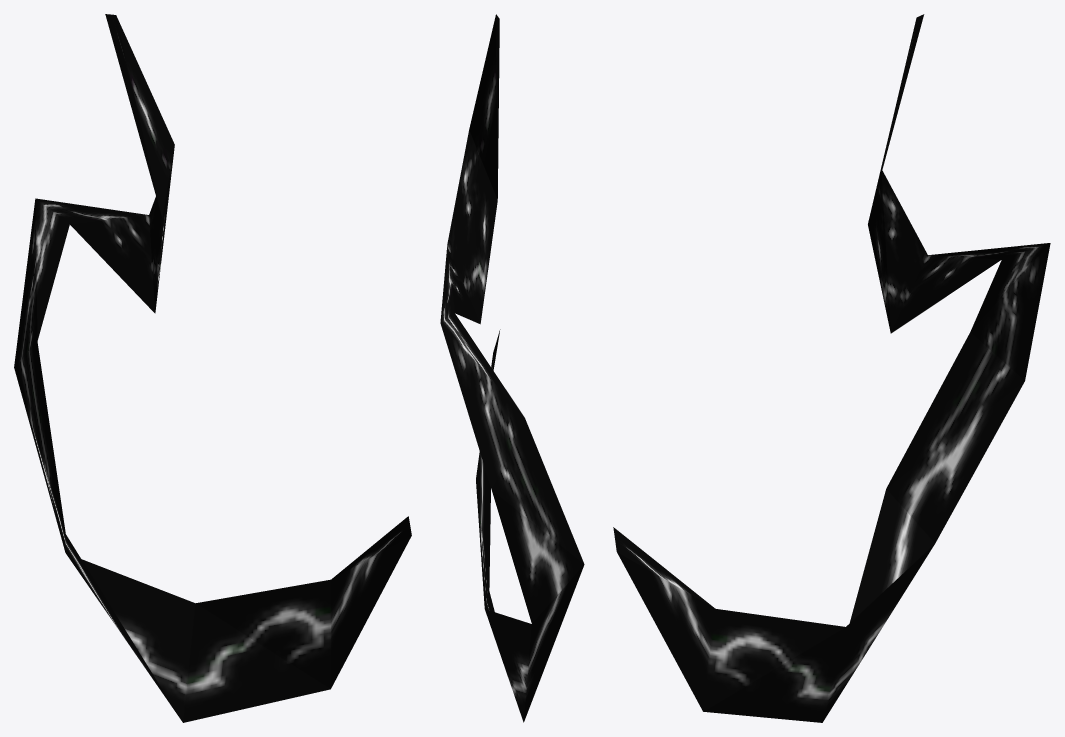
File: sfyyy_sdmx_001.fbx
The picture shows the model from 3 angles, left to right: view 1: azimuth 30°, elevation 25°; view 2: azimuth 150°, elevation 25°; view 3: azimuth 270°, elevation 25°; orthographic projection. The views are drawn at different scales.
Visible parts, largest first — view 1: sfyyy_sdmx_001; view 2: sfyyy_sdmx_001; view 3: sfyyy_sdmx_001.
Part boxes in pixels (x1,y1,x2,y2): sfyyy_sdmx_001: (14, 14, 411, 722); sfyyy_sdmx_001: (440, 14, 584, 722); sfyyy_sdmx_001: (613, 14, 1050, 722).
Bounding box in the file's own units: 0.9163 × 2.78 × 1.58.
